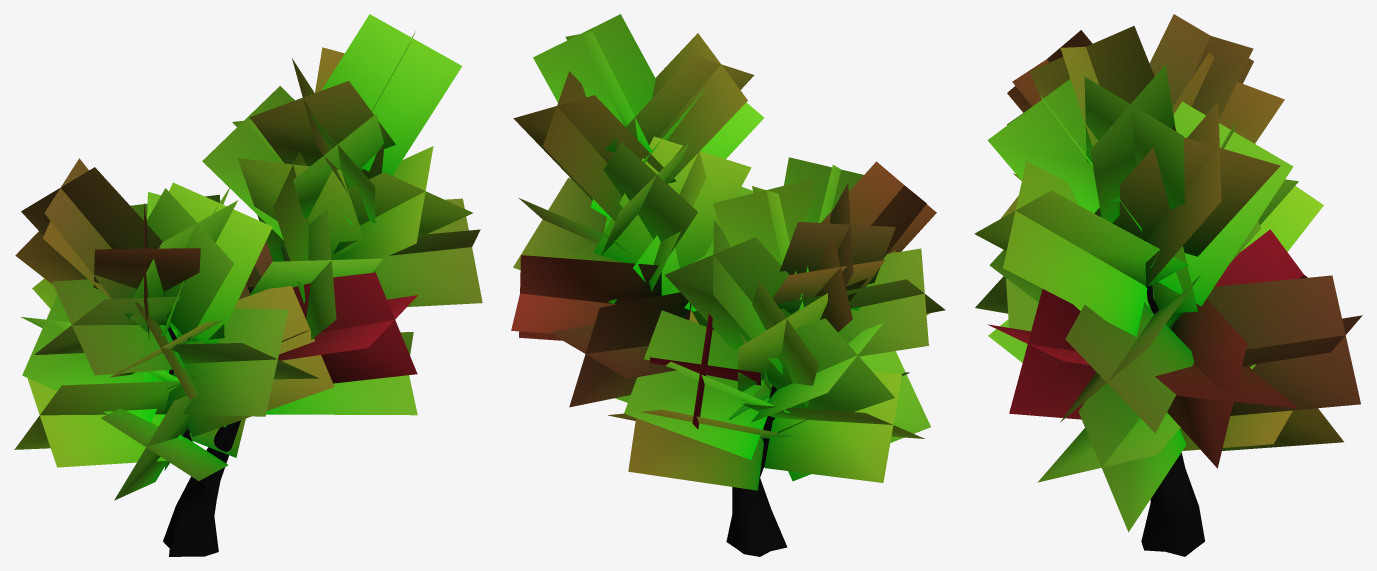
File: S_Tree_12_14.fbx
The picture shows the model from 3 angles, left to right: view 1: azimuth 30°, elevation 25°; view 2: azimuth 150°, elevation 25°; view 3: azimuth 270°, elevation 25°; orthographic projection. The views are drawn at different scales.
Visible parts, largest first — view 1: S_Tree_12_14; view 2: S_Tree_12_14; view 3: S_Tree_12_14.
Part boxes in pixels (<box>): S_Tree_12_14: <box>14,14,482,556</box>; S_Tree_12_14: <box>511,14,945,556</box>; S_Tree_12_14: <box>974,14,1362,556</box>.
Bounding box in the file's own units: 2033 × 2213 × 1350.
